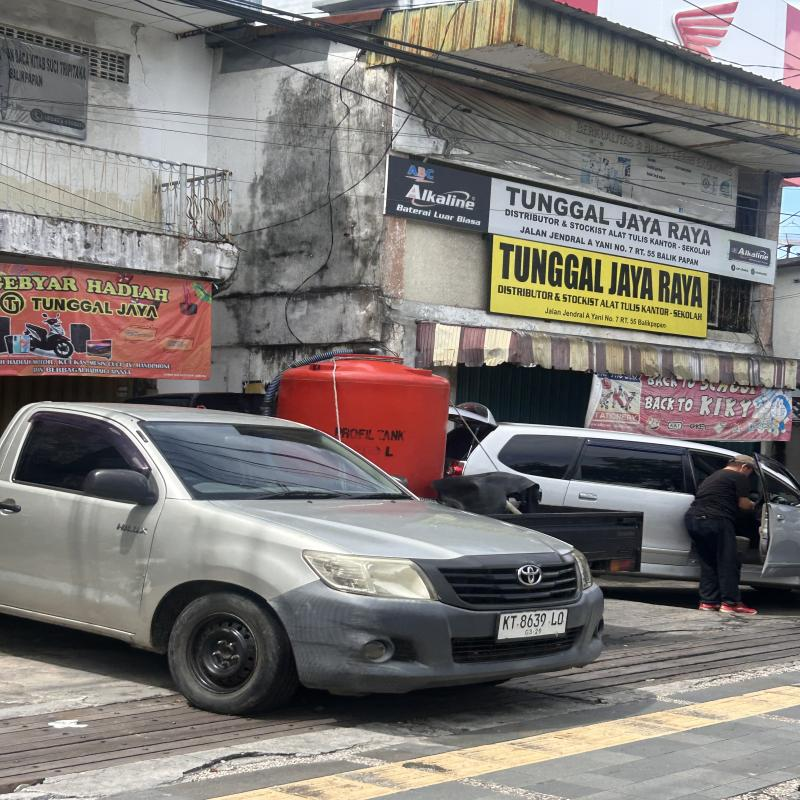license plate on a car: (499, 609, 568, 638)
